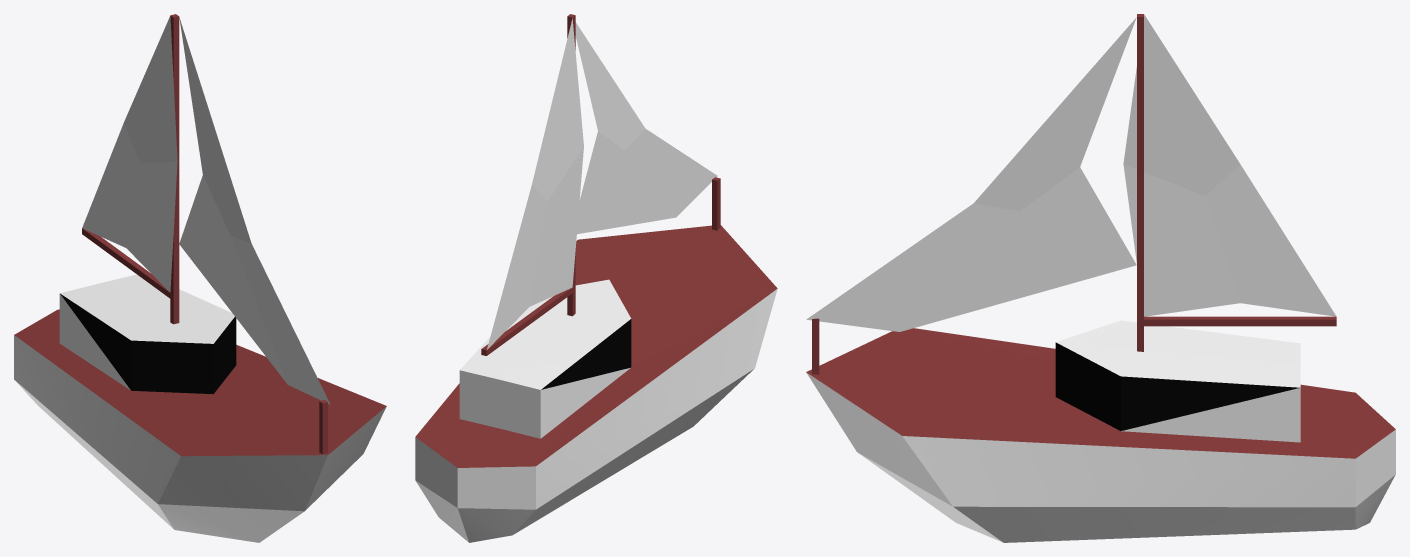
Rendered from SailBoatB.fbx.
3 views of the same model, side by side, from view 1: azimuth 30°, elevation 25°; view 2: azimuth 150°, elevation 25°; view 3: azimuth 270°, elevation 25° (orthographic). The views are drawn at different scales.
Visible parts, largest first — view 1: SailBoatB; view 2: SailBoatB; view 3: SailBoatB.
Part boxes in pixels (x1,y1,x2,y2): SailBoatB: (14, 14, 386, 542); SailBoatB: (415, 14, 777, 542); SailBoatB: (806, 14, 1395, 542).
Size of the model in its own units: 434 by 939 by 989.
Materials: 1 (1 with a texture image).
